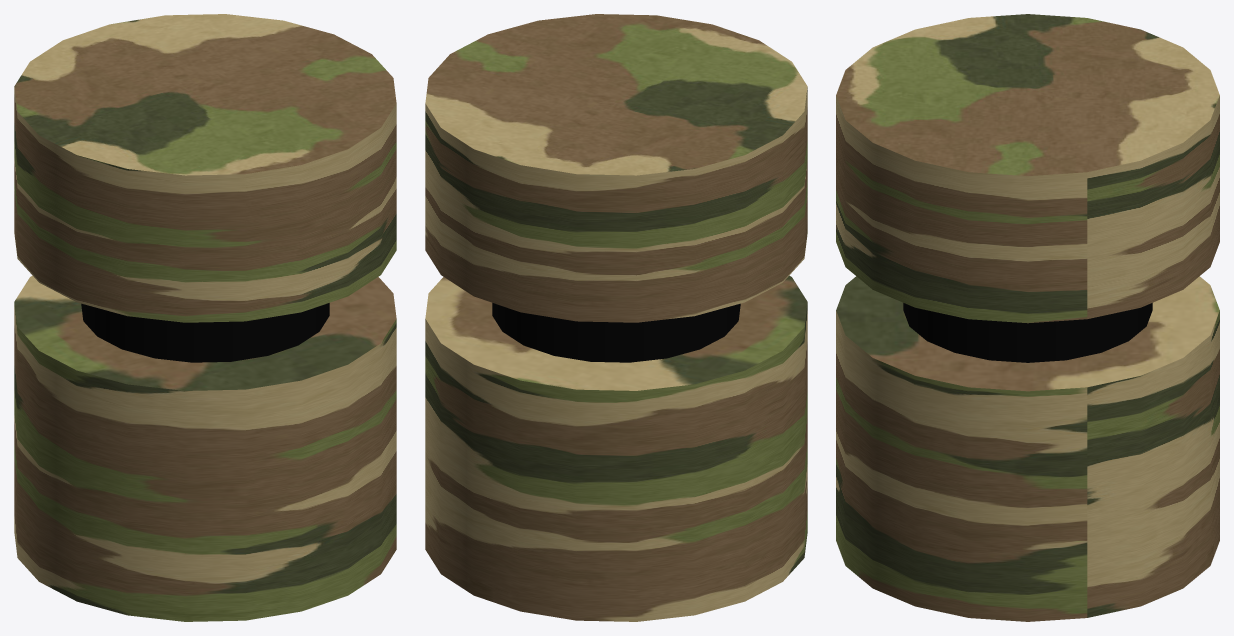
Rendered from kouenn.obj.
3 views of the same model, side by side, from view 1: azimuth 30°, elevation 25°; view 2: azimuth 150°, elevation 25°; view 3: azimuth 270°, elevation 25° (orthographic).
Visible parts, largest first — view 1: pCylinder1, pasted__pCylinder1 group, pCylinder2; view 2: pCylinder1, pasted__pCylinder1 group, pCylinder2; view 3: pCylinder1, pasted__pCylinder1 group, pCylinder2.
Boxes of the visible parts, x1,y1,x2,y2 form: pCylinder1: (14,275,396,621); pasted__pCylinder1 group: (14,14,396,322); pCylinder2: (81,303,329,362); pCylinder1: (425,275,807,621); pasted__pCylinder1 group: (425,14,807,322); pCylinder2: (492,303,740,362); pCylinder1: (836,276,1219,621); pasted__pCylinder1 group: (836,14,1219,323); pCylinder2: (903,303,1152,362).
Bounding box in the file's own units: 2 × 2.56 × 2.
1 material, 1 textured.
